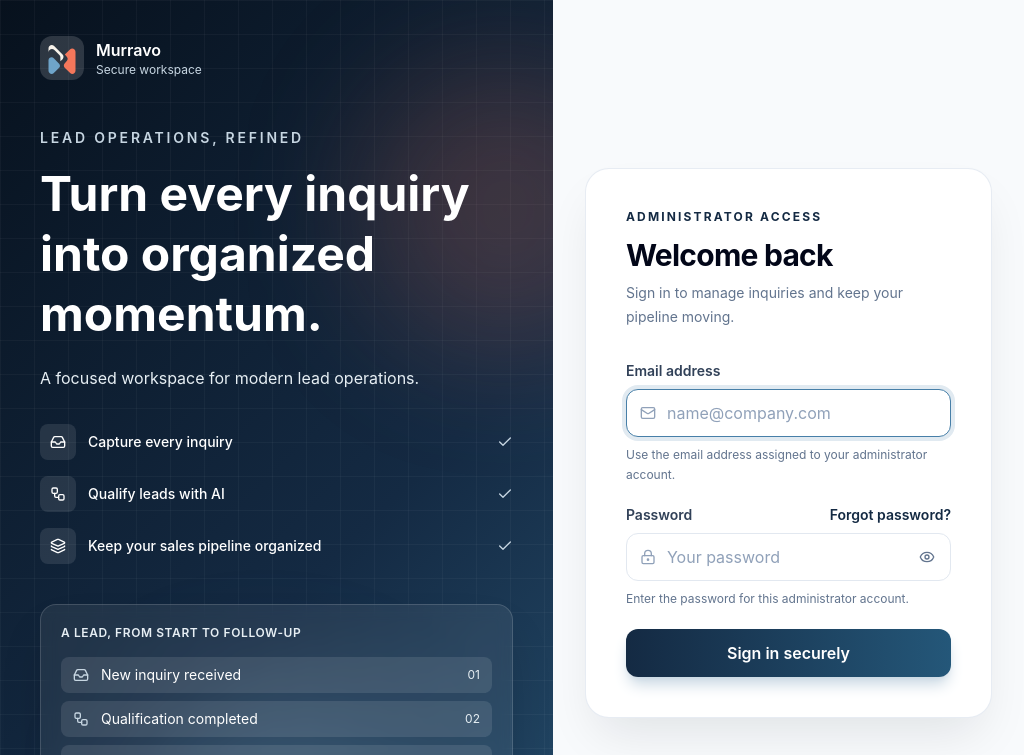
Test: real authentication provider regression › shows only the fixed infrastructure message for a deliberate login failure
Type "admin@example.invalid" into the field labelled "Email address" at (788, 413), box [626, 389, 951, 437]
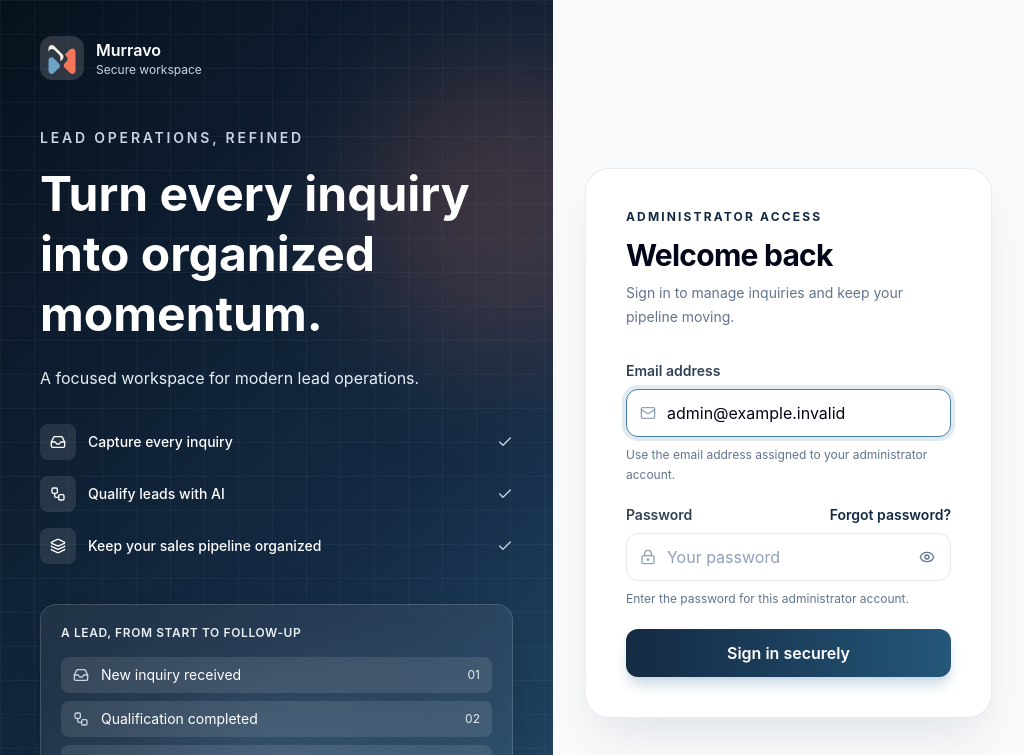
Type "Synthetic-password-42!" into the password field labelled "Password" at (788, 557), box [626, 533, 951, 581]
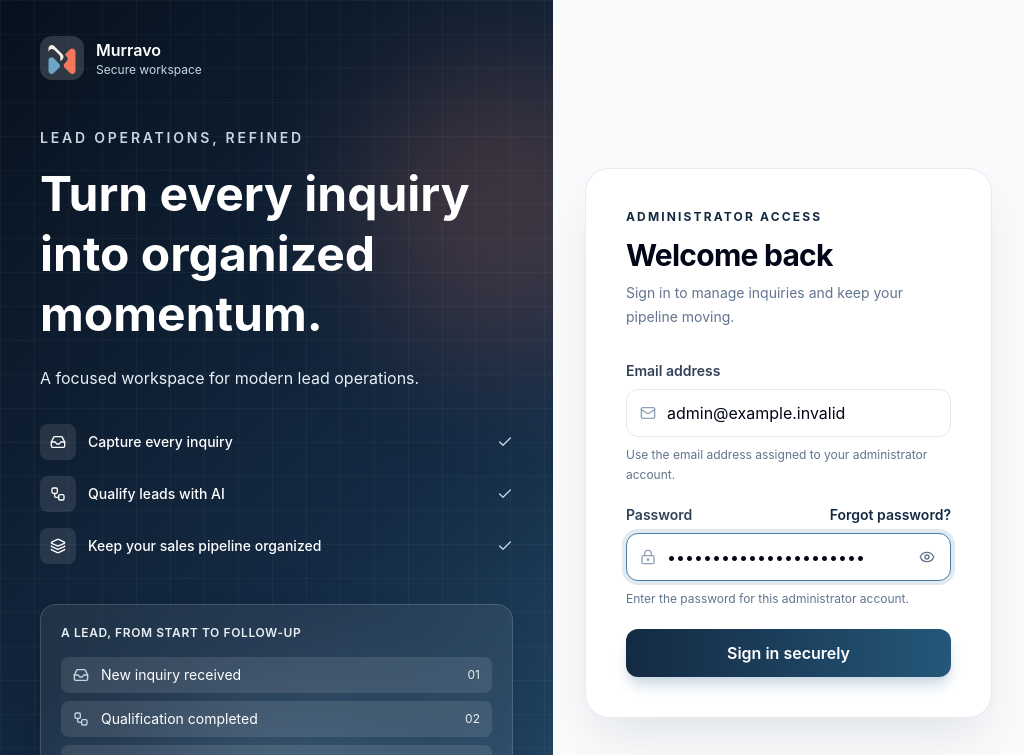
Click the button "Sign in securely" at (788, 653), box [626, 629, 951, 677]
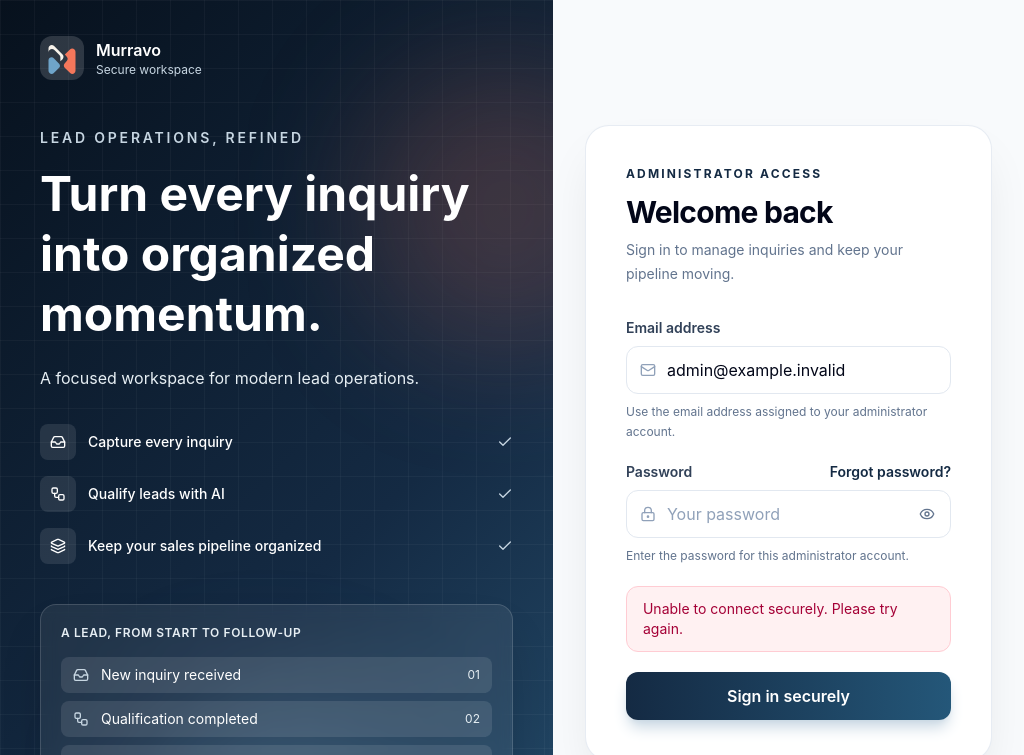
Check: the message reads "Unable to connect securely. Please try again.", box [643, 600, 898, 637]
